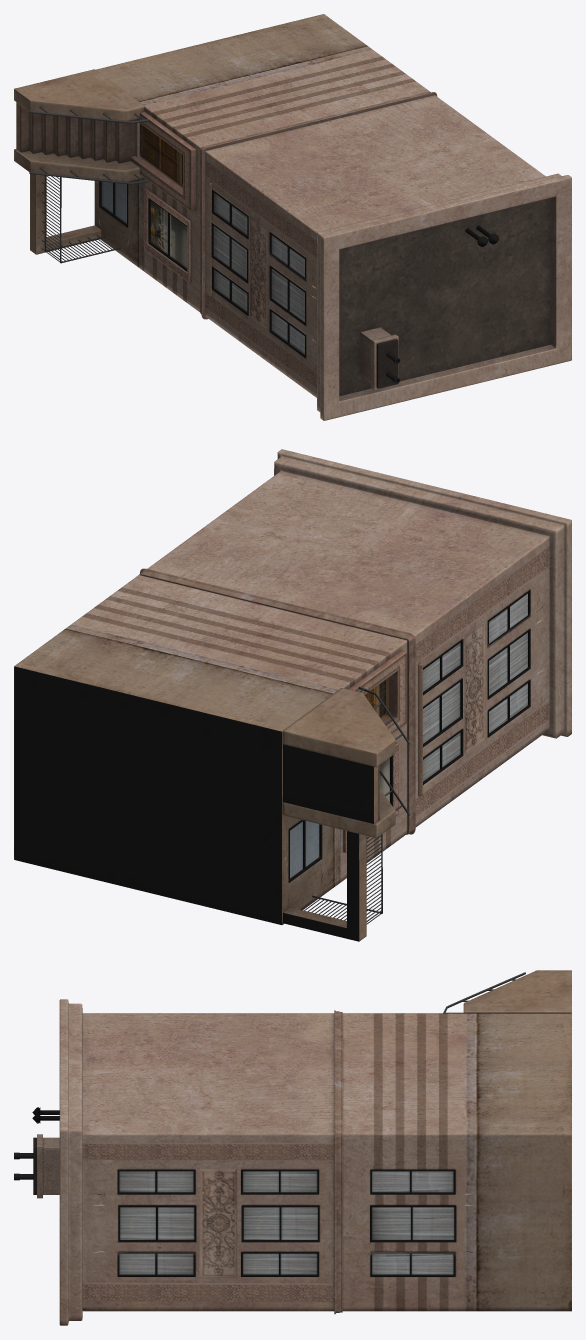
Rendered from brownstone.gltf.
3 views of the same model, one above another, from view 1: azimuth 30°, elevation 25°; view 2: azimuth 150°, elevation 25°; view 3: azimuth 270°, elevation 25° (orthographic). The views are drawn at different scales.
Visible parts, largest first — view 1: 13940_New_York_City_Brownstone_Building_v1_l2; view 2: 13940_New_York_City_Brownstone_Building_v1_l2; view 3: 13940_New_York_City_Brownstone_Building_v1_l2.
Boxes of the visible parts, <box> form: 13940_New_York_City_Brownstone_Building_v1_l2: <box>14,14,571,420</box>; 13940_New_York_City_Brownstone_Building_v1_l2: <box>14,449,571,941</box>; 13940_New_York_City_Brownstone_Building_v1_l2: <box>14,970,571,1325</box>.
Size of the model in its own units: 719 by 387 by 993.
1 material, 1 textured.
